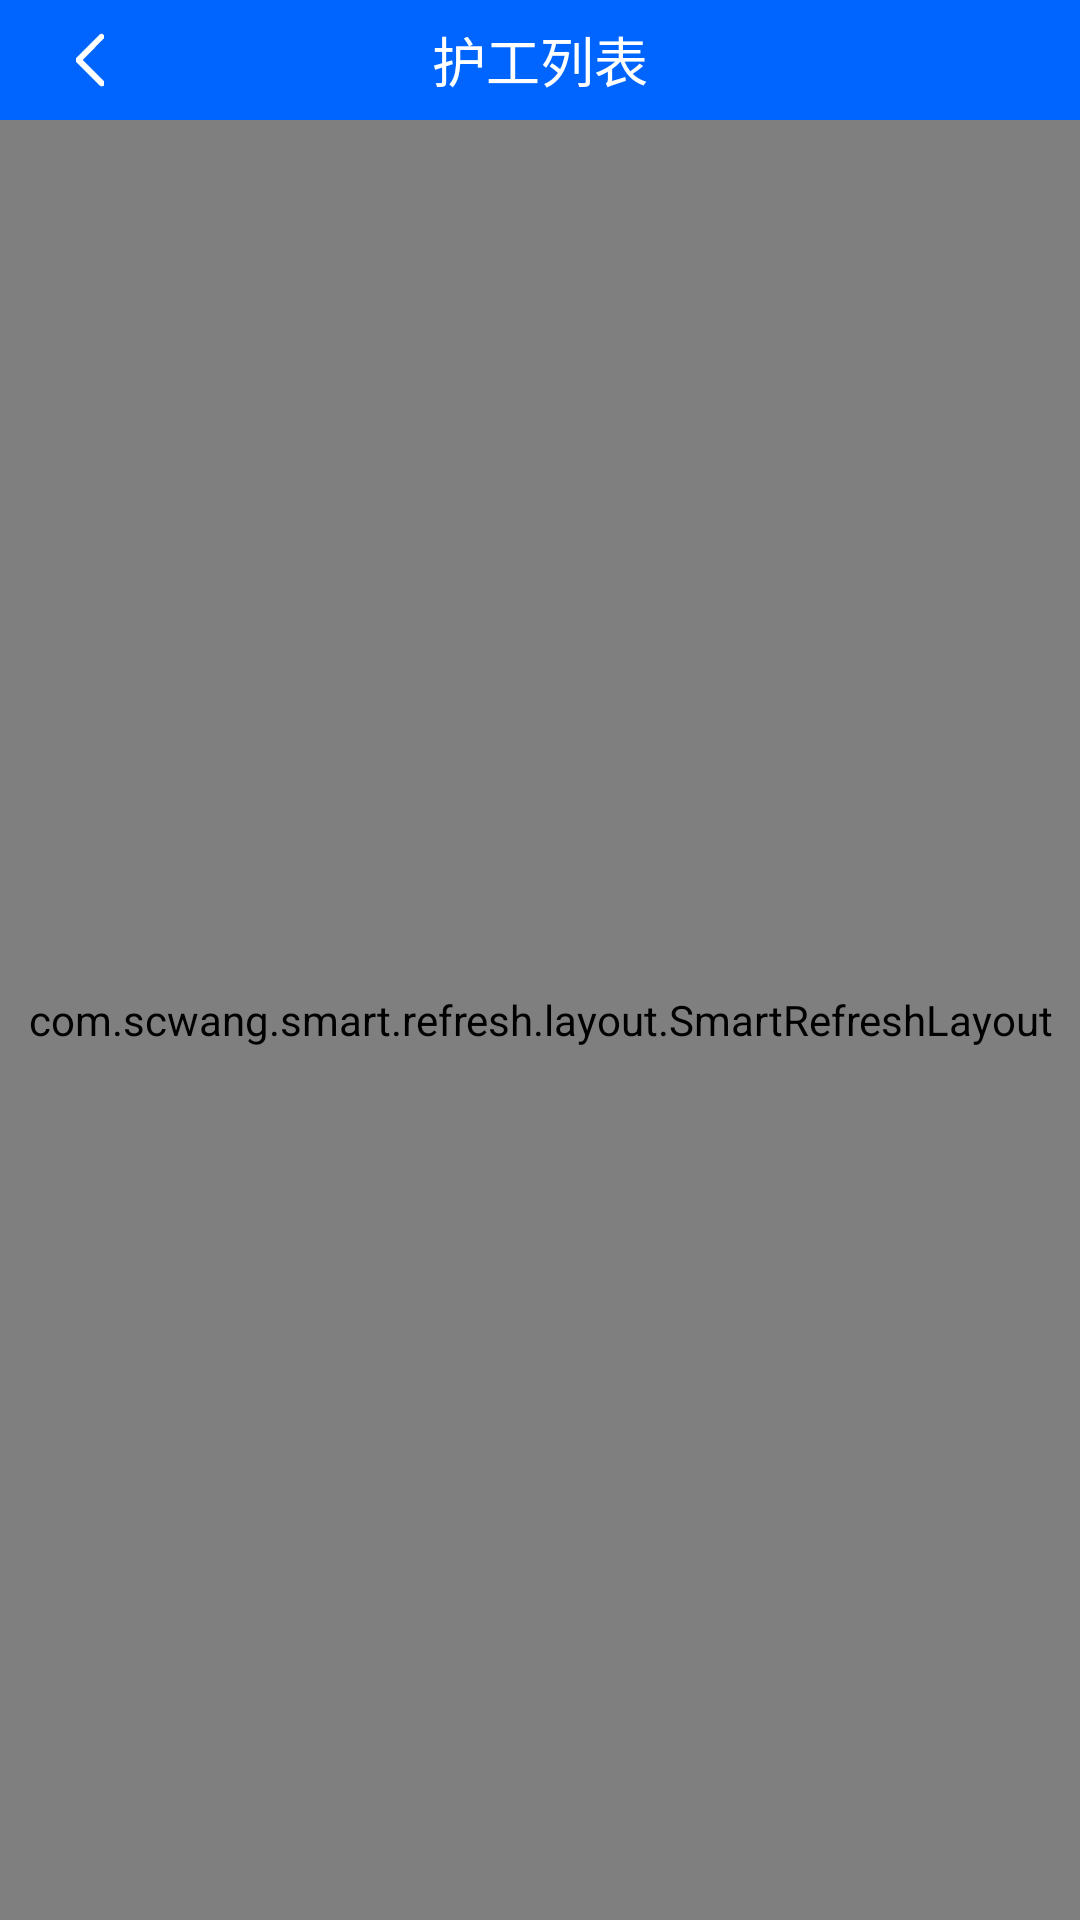

Screen size 1080px×1920px. Icon name, then its center in pixels as [x,y]:
left arrow: [90,60]
